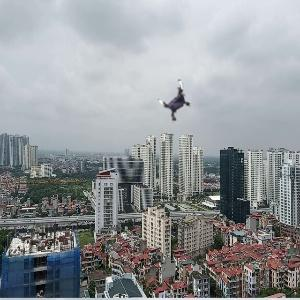drone: (158, 83, 197, 122)
